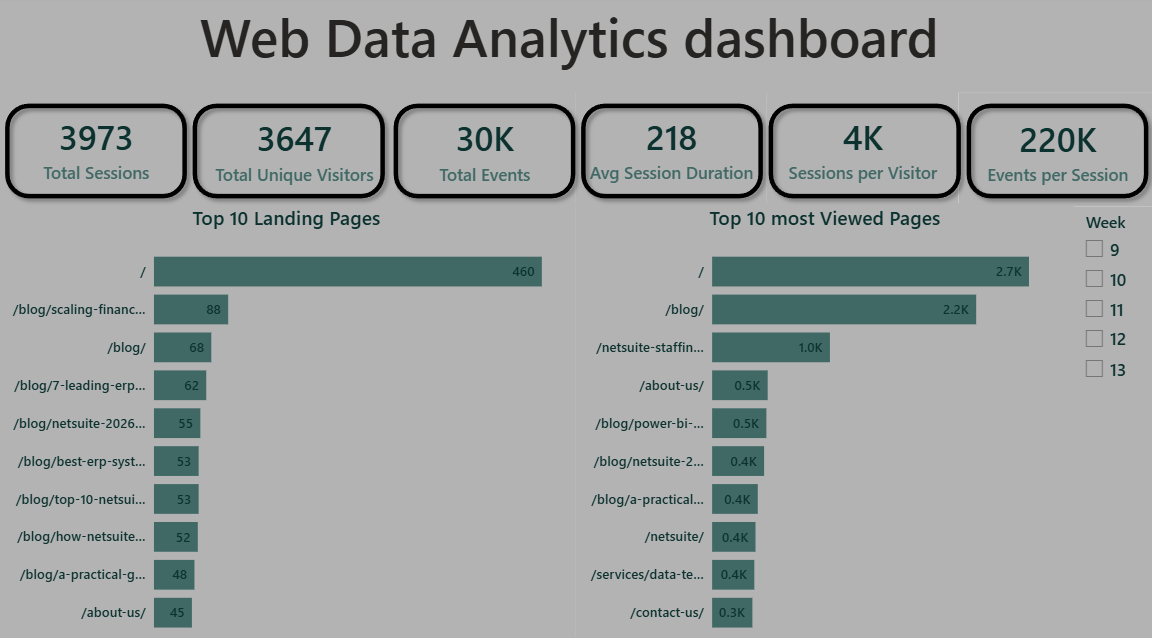

Layout of this report page (visuals, bound fields, positions):
{"tool":"powerbi","page":{"name":"Part 1","canvas":[1280,720],"ordinal":0},"visuals":[{"type":"card","fields":{"Values":["CountNonNull(Session.id)"]},"box":[14.9,106,193.8,122.6],"z":0},{"type":"card","fields":{"Values":["Count(Visitor.id)"]},"box":[233.6,104.4,193.8,127.5],"z":1000},{"type":"card","fields":{"Values":["CountNonNull(Event.id)"]},"box":[445.6,104.4,193.8,127.5],"z":2000},{"type":"card","fields":{"Values":["Avg(Session.Session Duration (seconds))"]},"box":[657.6,106,193.8,125.9],"z":3000},{"type":"card","fields":{"Values":["Sum(Session.Sessions_per_Visitor)"]},"box":[865,108.3,190,126.7],"z":4000},{"type":"clusteredBarChart","title":"Top 10 Landing Pages","fields":{"Category":["Session.landing_page"],"Y":["CountNonNull(Session.id)"]},"box":[29.8,255.1,546.6,440.6],"z":6000},{"type":"barChart","title":"Top 10 most Viewed Pages","fields":{"Category":["Event.page_path"],"Y":["CountNonNull(Event.id)"]},"box":[596.3,255.1,508.5,440.6],"z":7000},{"type":"slicer","fields":{"Values":["Date Table.Week Label"]},"box":[1113.2,318,152.4,81.2],"z":8000},{"type":"textbox","box":[14.9,13.3,1250.6,81.2],"z":9000},{"type":"image","box":[14.9,13.3,132.5,79.5],"z":10000},{"type":"card","fields":{"Values":["Session.Events per Session"]},"box":[1071.7,110,193.3,125],"z":10001}]}

Visuals, with their boxes in screenshot pixels (x1, y1, x2, y2), scaled from the page's 1280x720 canvas onto the 1152x638 screenshot:
card - CountNonNull(Session.id): pyautogui.locateOnScreen(13, 94, 188, 203)
card - Count(Visitor.id): pyautogui.locateOnScreen(210, 93, 385, 205)
card - CountNonNull(Event.id): pyautogui.locateOnScreen(401, 93, 575, 205)
card - Avg(Session.Session Duration (seconds)): pyautogui.locateOnScreen(592, 94, 766, 205)
card - Sum(Session.Sessions_per_Visitor): pyautogui.locateOnScreen(778, 96, 950, 208)
"Top 10 Landing Pages" clusteredBarChart: pyautogui.locateOnScreen(27, 226, 519, 616)
"Top 10 most Viewed Pages" barChart: pyautogui.locateOnScreen(537, 226, 994, 616)
slicer - Date Table.Week Label: pyautogui.locateOnScreen(1002, 282, 1139, 354)
textbox: pyautogui.locateOnScreen(13, 12, 1139, 84)
image: pyautogui.locateOnScreen(13, 12, 133, 82)
card - Session.Events per Session: pyautogui.locateOnScreen(965, 97, 1138, 208)
